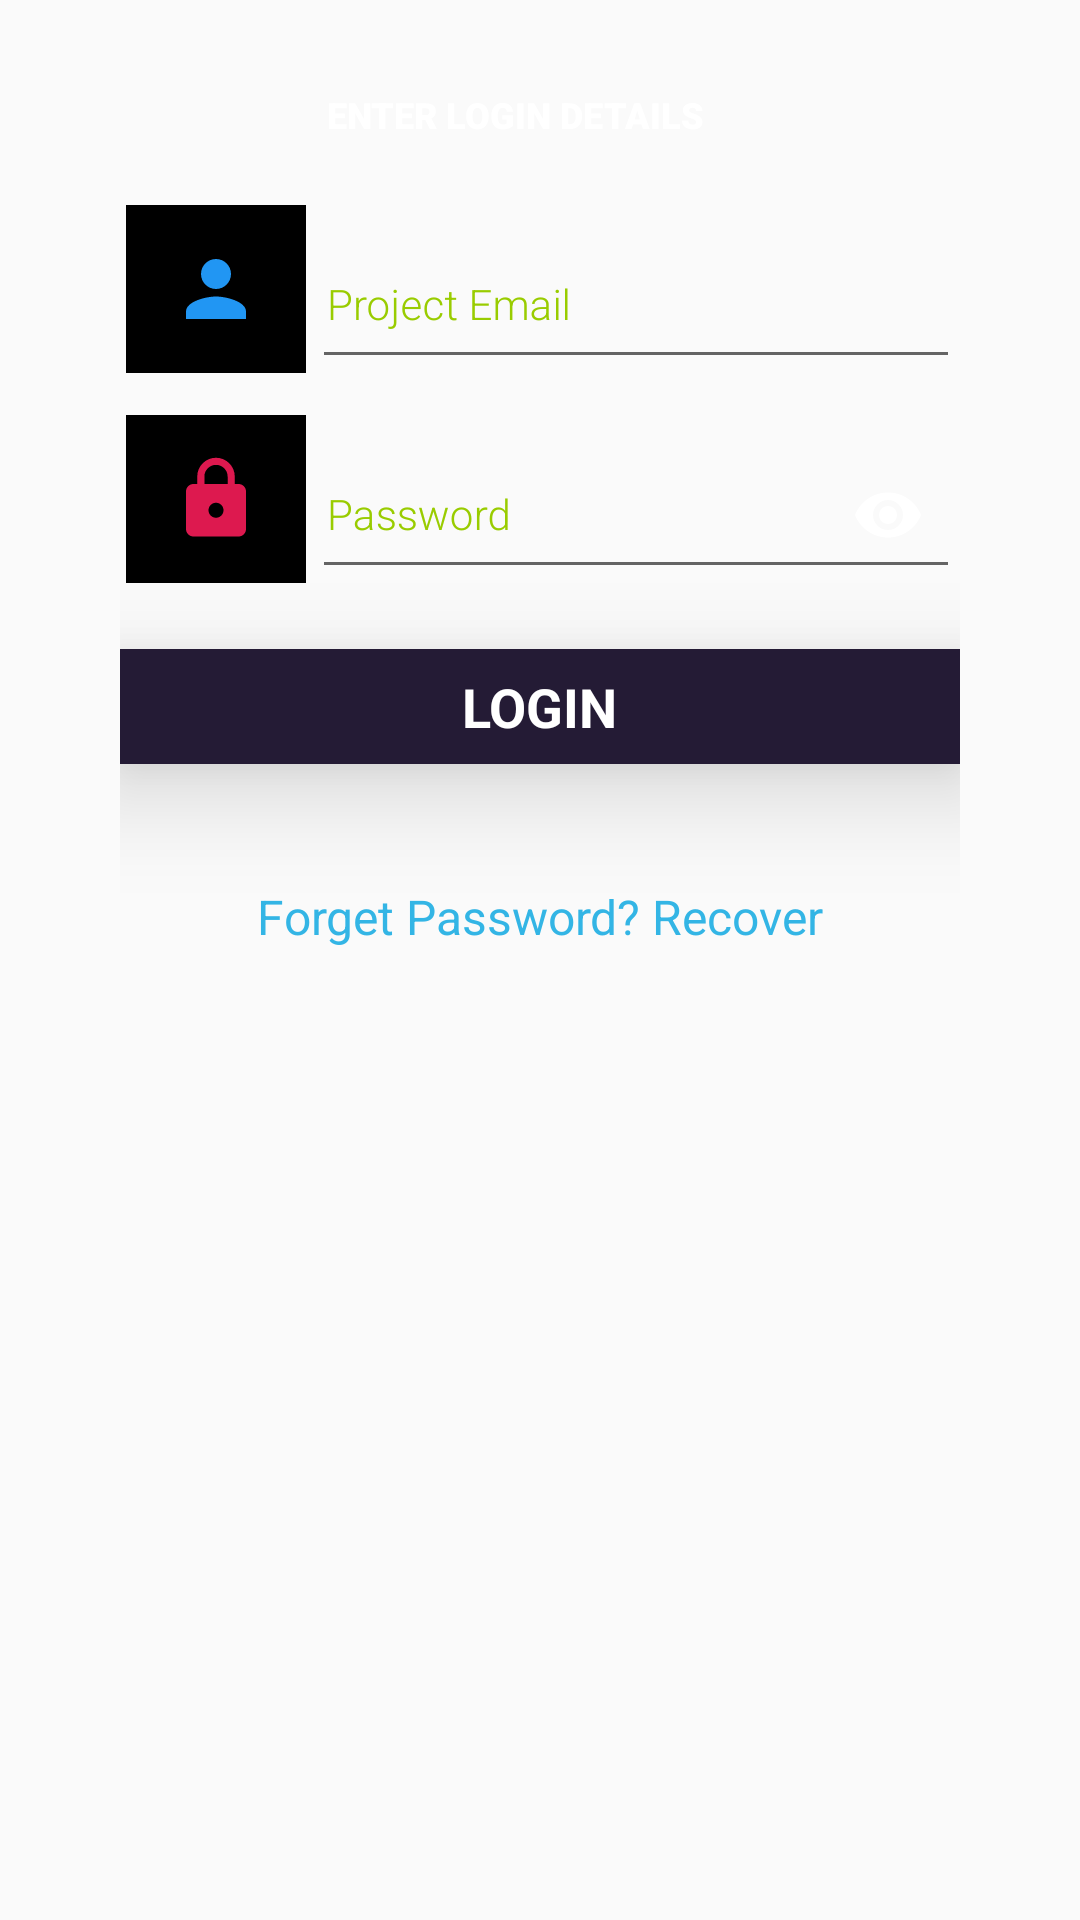

Icon click points for this 1080x1920 phone screenshot, format point (x, y):
lock: point (216, 499)
person: point (216, 289)
